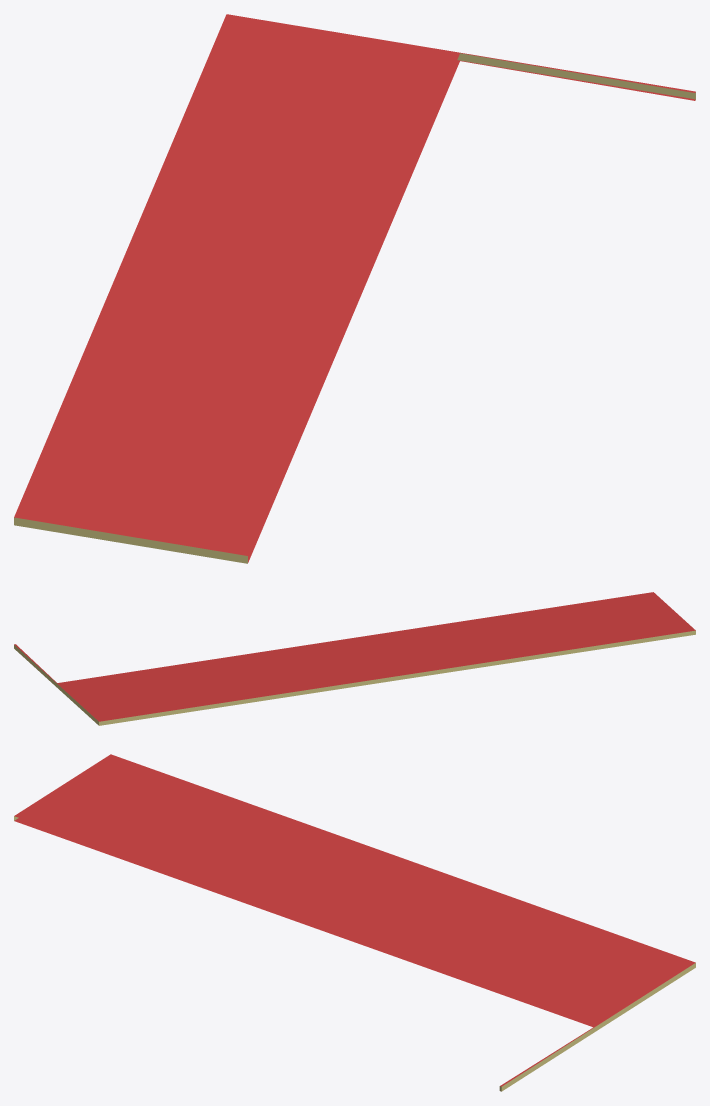
3 renders of one model, top to bottom at view 1: azimuth 30°, elevation 25°; view 2: azimuth 150°, elevation 25°; view 3: azimuth 270°, elevation 25°, orthographic. The views are drawn at different scales.
Size of the model in its own units: 13.14 by 12.38 by 0.633.
